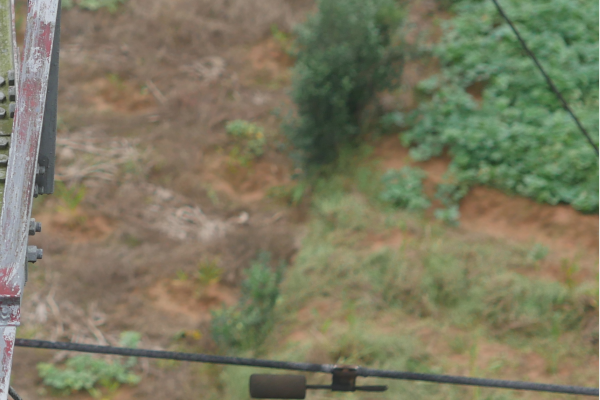damper_defect: (241, 360, 392, 400)
